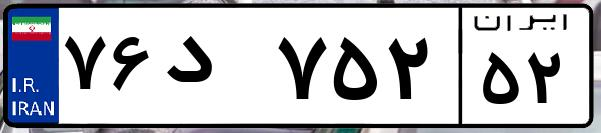2: (385, 28, 445, 110), (525, 38, 570, 115)
5: (330, 28, 385, 110), (475, 38, 525, 113)
6: (110, 28, 158, 98)
7: (270, 28, 330, 110), (57, 26, 110, 100)
د: (158, 20, 270, 120)
